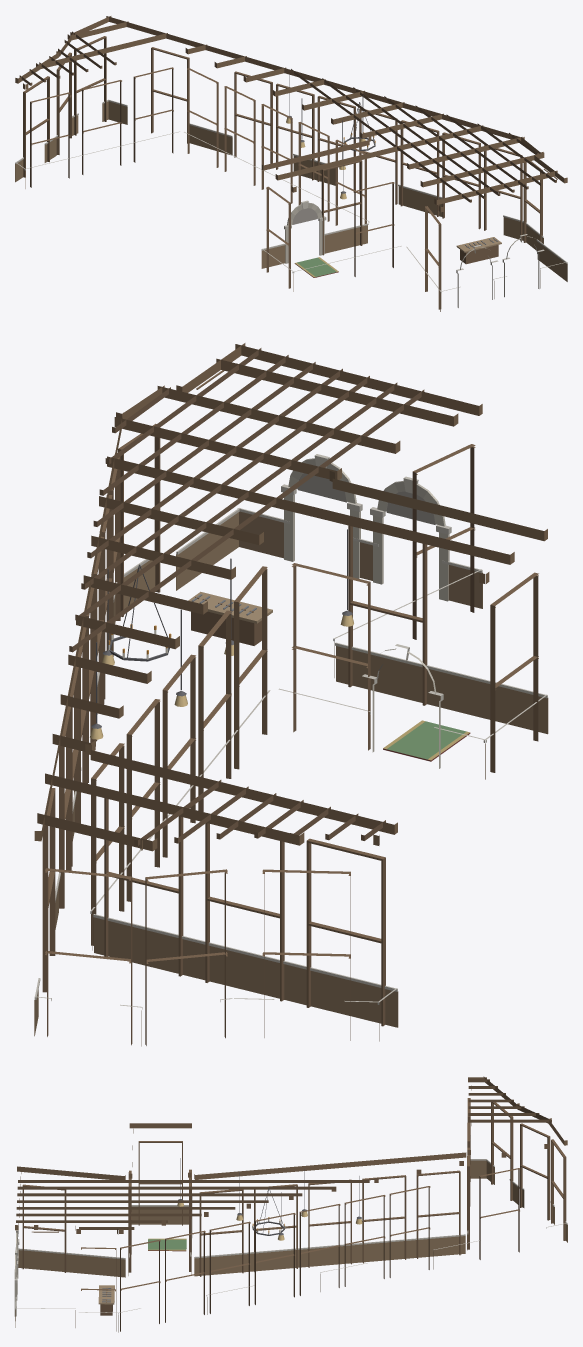
The model's file is interior_b075.glb.
3 renders of one model, top to bottom at view 1: azimuth 30°, elevation 25°; view 2: azimuth 150°, elevation 25°; view 3: azimuth 270°, elevation 25°, orthographic. The views are drawn at different scales.
Visible parts, largest first — view 1: Interior_B075_mesh; view 2: Interior_B075_mesh; view 3: Interior_B075_mesh.
Part boxes in pixels (left/top/right/bottom): Interior_B075_mesh: left=15, top=16, right=567, bottom=311; Interior_B075_mesh: left=34, top=343, right=548, bottom=1046; Interior_B075_mesh: left=14, top=1076, right=567, bottom=1332.
Bounding box in the file's own units: 20.93 × 6.49 × 31.67.
